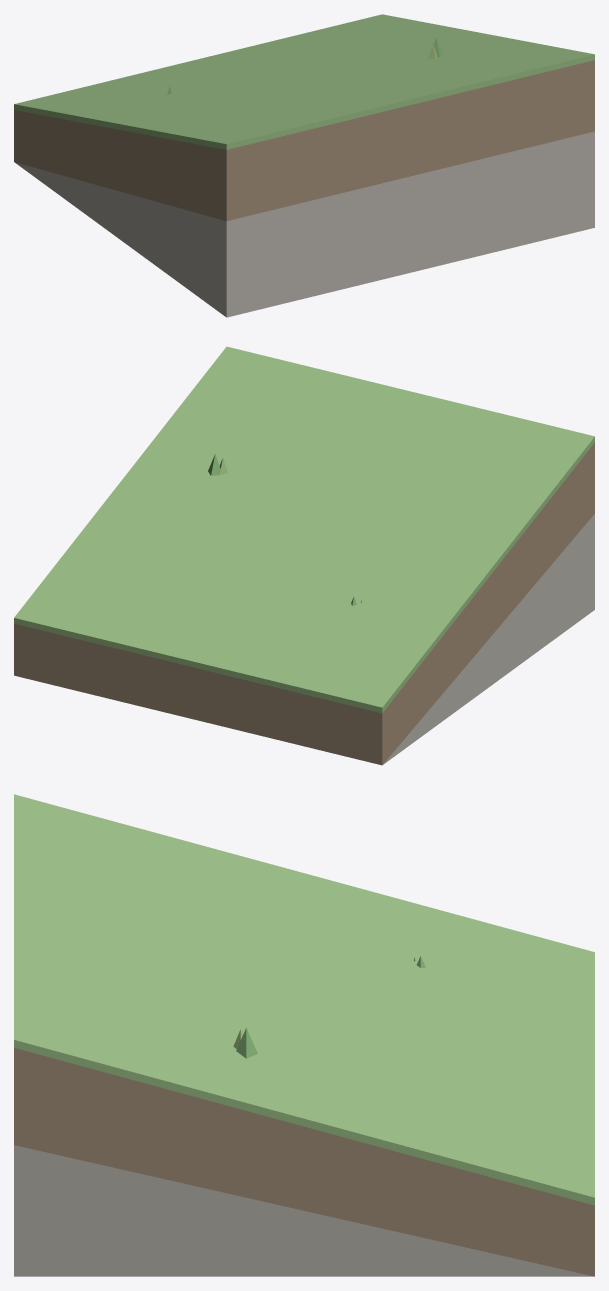
The model's file is terreno__rampa.glb.
3 views of the same model, one above another, from view 1: azimuth 30°, elevation 25°; view 2: azimuth 150°, elevation 25°; view 3: azimuth 270°, elevation 25° (orthographic). The views are drawn at different scales.
Visible parts, largest first — view 1: terreno__rampa; view 2: terreno__rampa; view 3: terreno__rampa.
Boxes of the visible parts, bbox=[...] form: terreno__rampa: bbox=[14, 14, 594, 317]; terreno__rampa: bbox=[14, 346, 594, 765]; terreno__rampa: bbox=[14, 794, 594, 1276].
Size of the model in its own units: 2 by 0.9 by 2.
